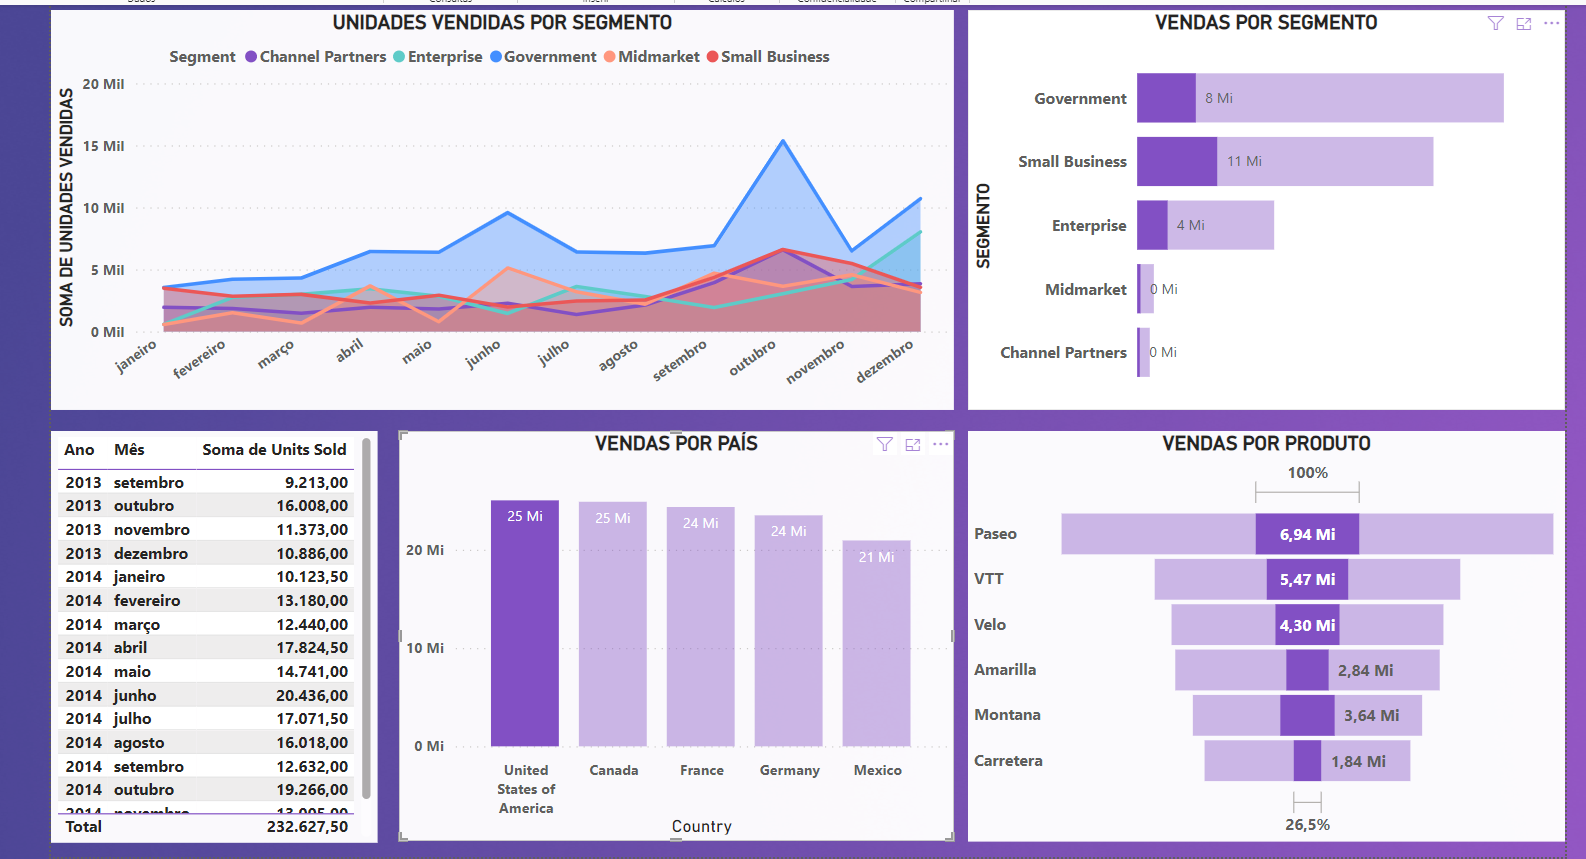

What the dashboard file says about the page in this screenshot:
{"tool":"powerbi","page":{"name":"Vendas","canvas":[1280,720],"ordinal":0},"visuals":[{"type":"clusteredColumnChart","title":"VENDAS POR PAÍS","fields":{"Category":["financials.Country"],"Y":["Sum(financials. Sales)"]},"box":[294.1,360,469,346.5],"z":0},{"type":"clusteredBarChart","title":"VENDAS POR SEGMENTO","fields":{"Category":["financials.Segment"],"Y":["Sum(financials. Sales)"]},"box":[774.9,4.2,504.5,338],"z":1000},{"type":"funnel","title":"VENDAS POR PRODUTO","fields":{"Category":["financials.Product"],"Y":["Sum(financials. Sales)"]},"box":[775.3,360.3,504.7,346.6],"z":2000},{"type":"tableEx","fields":{"Values":["financials.Date.Variation.Hierarquia de datas.Ano","financials.Date.Variation.Hierarquia de datas.Mês","Sum(financials.Units Sold)"]},"box":[0,360,276.3,348.2],"z":3000},{"type":"areaChart","title":"UNIDADES VENDIDAS POR SEGMENTO","fields":{"Category":["financials.Date.Variation.Hierarquia de datas.Mês"],"Y":["Sum(financials.Units Sold)"],"Series":["financials.Segment"]},"box":[0,4.2,763.1,338],"z":4000}]}

Visuals, with their boxes in screenshot pixels (x1, y1, x2, y2):
"VENDAS POR PAÍS" clusteredColumnChart: pyautogui.locateOnScreen(396, 424, 947, 831)
"VENDAS POR SEGMENTO" clusteredBarChart: pyautogui.locateOnScreen(961, 5, 1555, 403)
"VENDAS POR PRODUTO" funnel: pyautogui.locateOnScreen(962, 424, 1556, 832)
tableEx - financials.Date.Variation.Hierarquia de datas.Ano x financials.Date.Variation.Hierarquia de datas.Mês: pyautogui.locateOnScreen(50, 424, 375, 833)
"UNIDADES VENDIDAS POR SEGMENTO" areaChart: pyautogui.locateOnScreen(50, 5, 947, 403)
